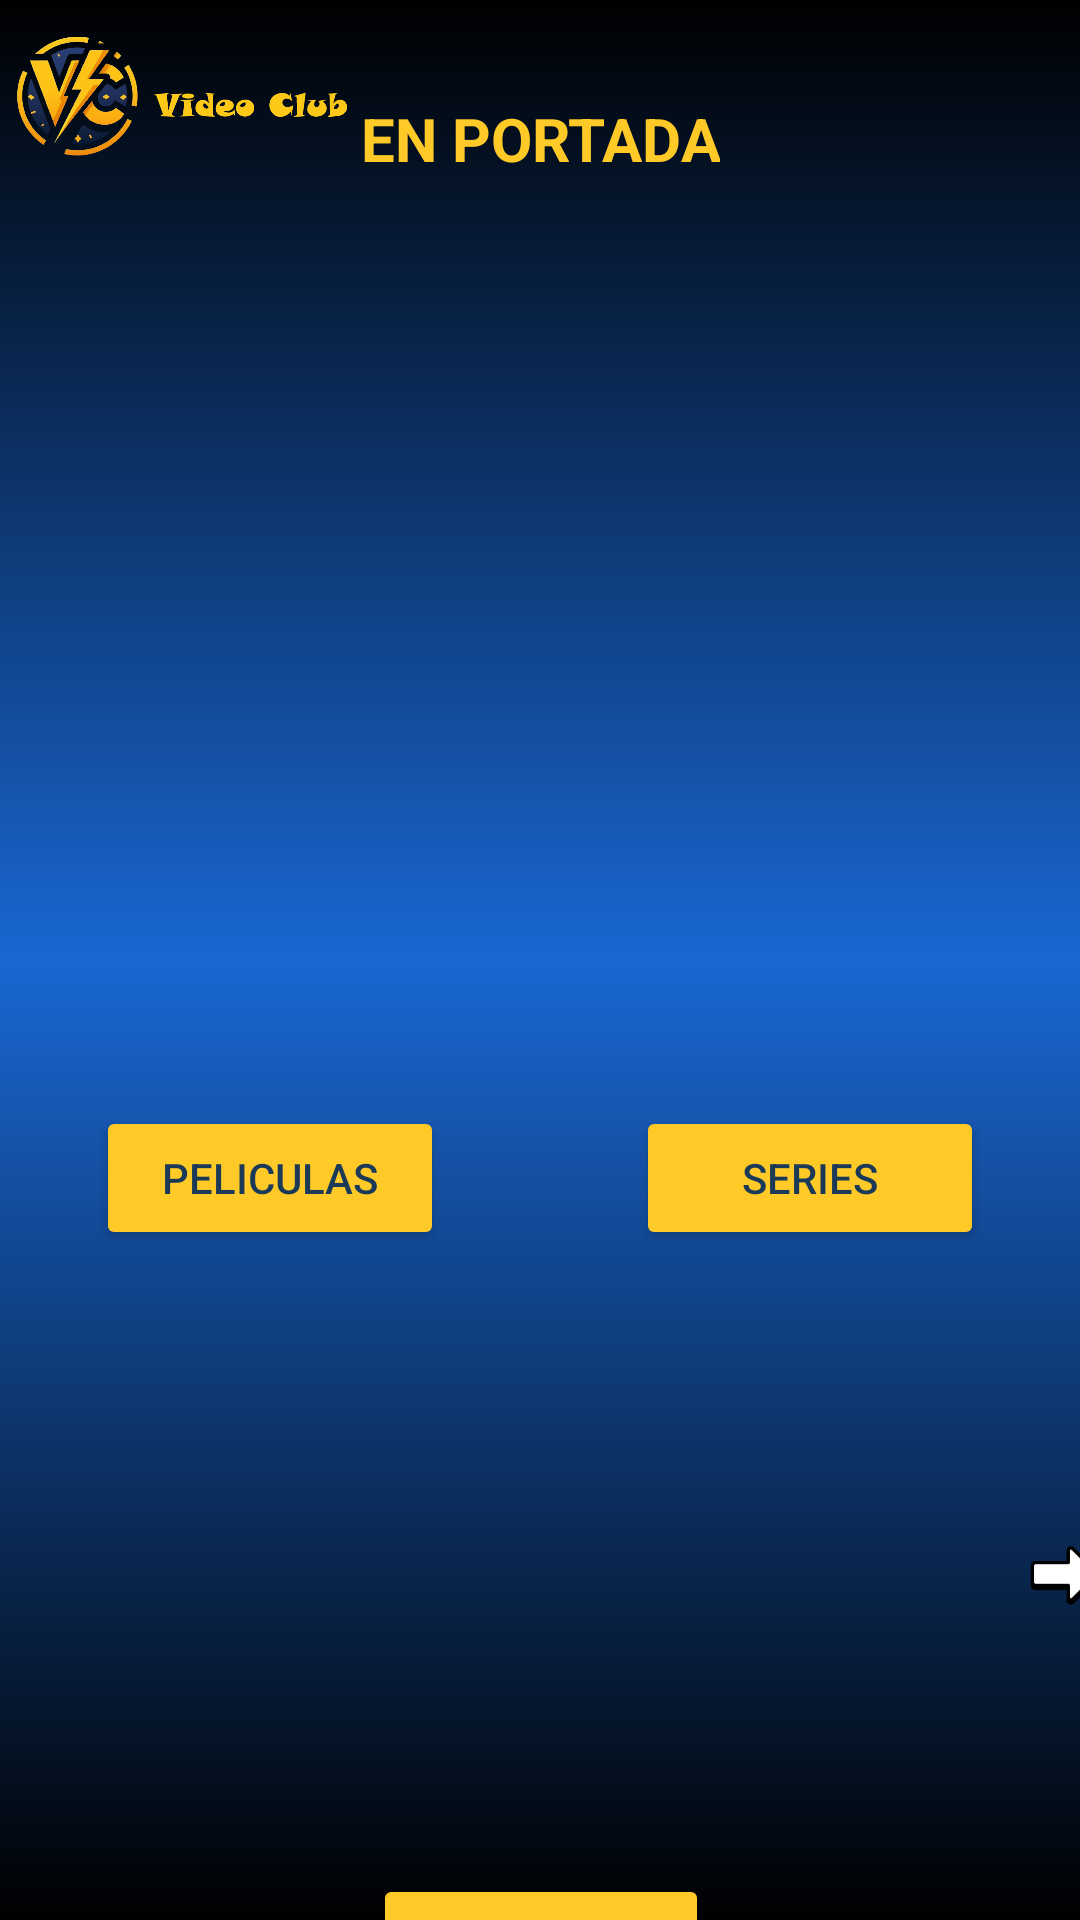

Screen size 1080*1920. Icon name, then its box in pixels as (left=x1, top=y1, right=x2, bottom=y2):
marca: (left=0, top=0, right=360, bottom=156)
